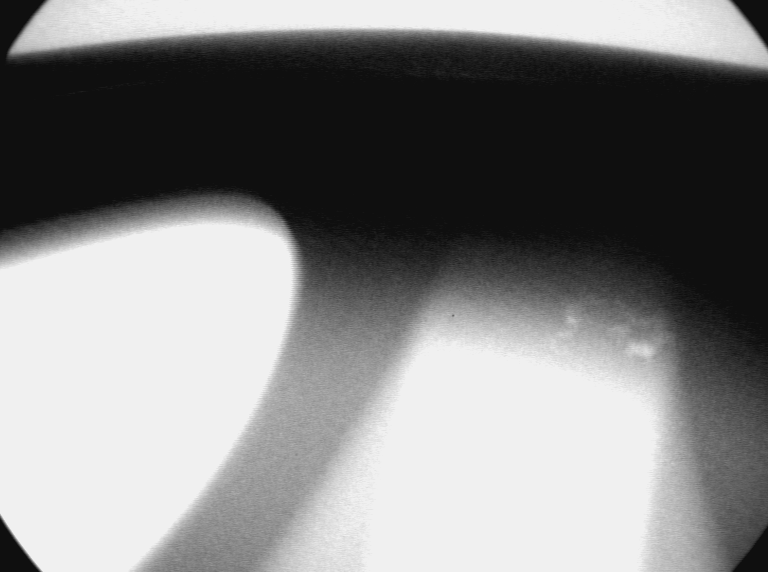defect: (539, 283, 689, 379)
